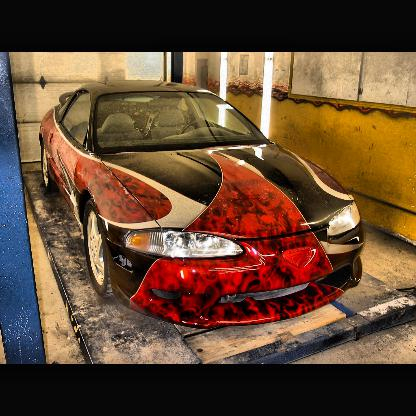Eagle Talon Hatchback 1998: (41, 82, 363, 326)
